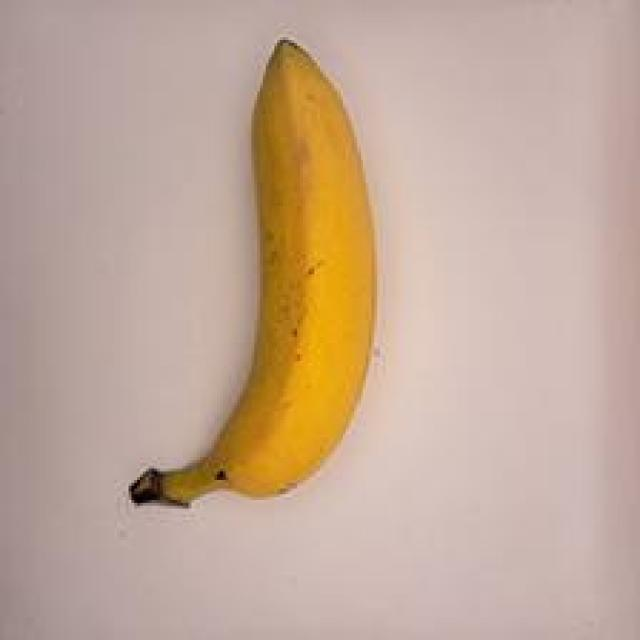Ripe: (115, 30, 414, 541)
